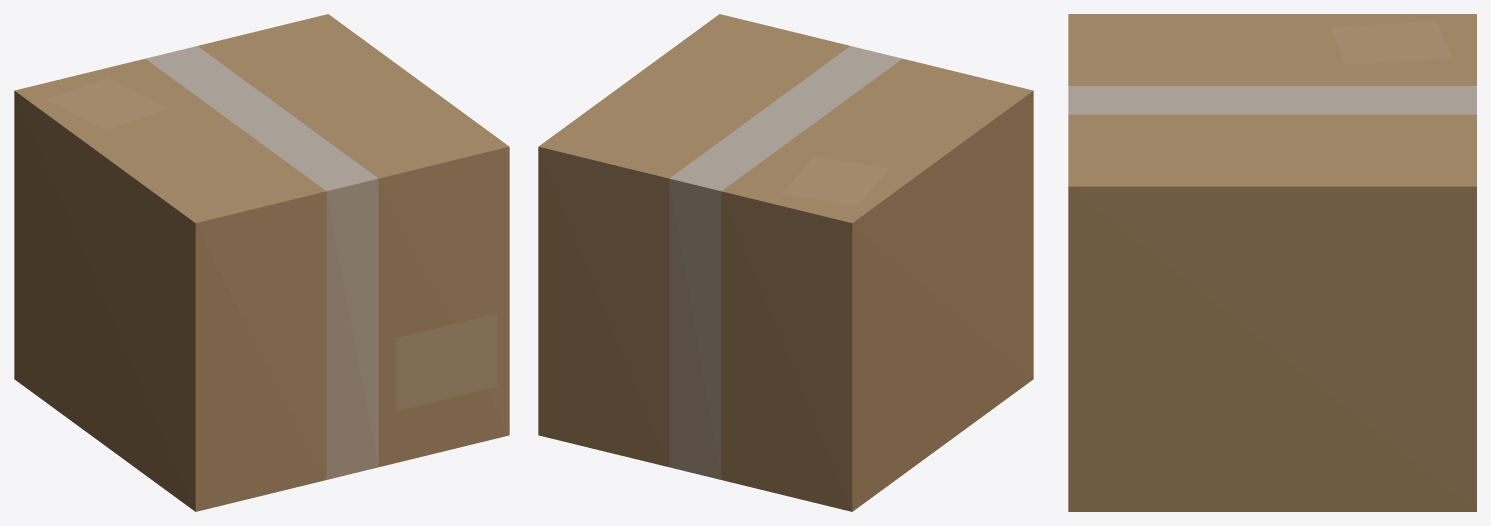
File: kk_city_box_A.glb
3 views of the same model, side by side, from view 1: azimuth 30°, elevation 25°; view 2: azimuth 150°, elevation 25°; view 3: azimuth 270°, elevation 25° (orthographic). The views are drawn at different scales.
Parts seen in each view (by area): view 1: kk_city_box_A; view 2: kk_city_box_A; view 3: kk_city_box_A.
Part boxes in pixels (box(x1,y1,x2,y2)): kk_city_box_A: box(14, 14, 509, 511); kk_city_box_A: box(538, 14, 1033, 511); kk_city_box_A: box(1068, 14, 1476, 511).
Bounding box in the file's own units: 0.2 × 0.1764 × 0.2031.
